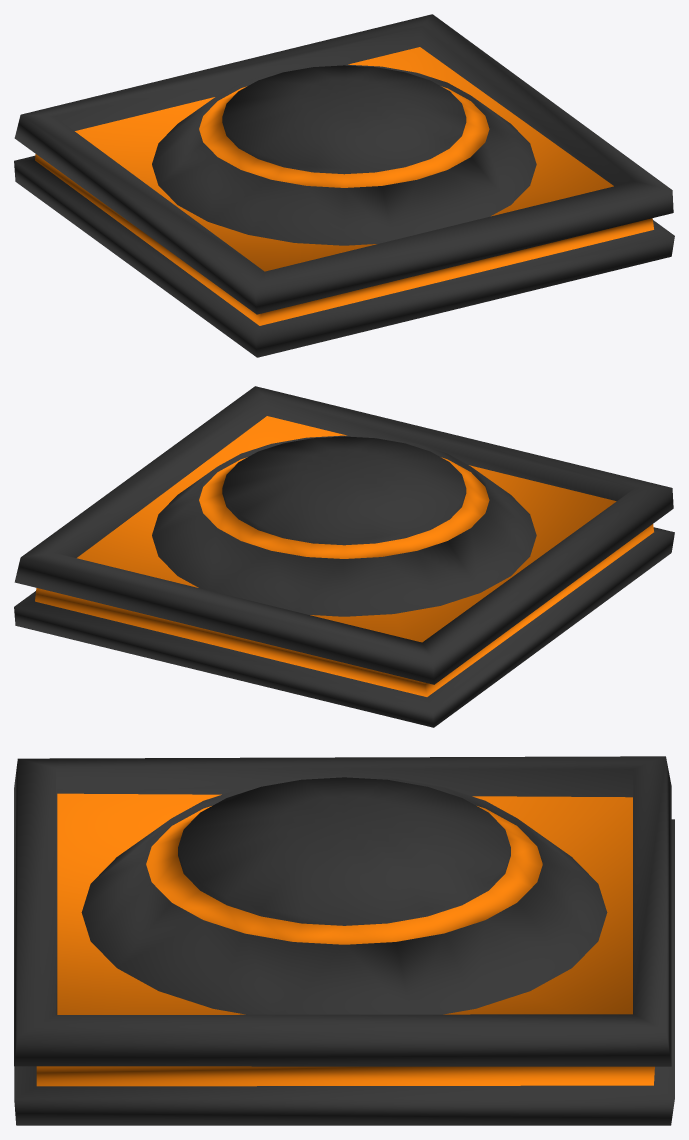
File: Platform_Switch_lowres_uv.fbx
The picture shows the model from 3 angles, top to bottom: view 1: azimuth 30°, elevation 25°; view 2: azimuth 150°, elevation 25°; view 3: azimuth 270°, elevation 25°; orthographic projection. The views are drawn at different scales.
Parts seen in each view (by area): view 1: uvit, Empty_Mesh; view 2: uvit, Empty_Mesh; view 3: uvit, Empty_Mesh.
Part boxes in pixels (x1=…): uvit: x1=14, y1=14, x2=674, y2=357; Empty_Mesh: x1=152, y1=64, x2=536, y2=245; uvit: x1=14, y1=386, x2=674, y2=727; Empty_Mesh: x1=152, y1=435, x2=536, y2=616; uvit: x1=14, y1=756, x2=674, y2=1125; Empty_Mesh: x1=81, y1=776, x2=607, y2=1014.
Size of the model in its own units: 3.08 by 0.8787 by 3.08.
